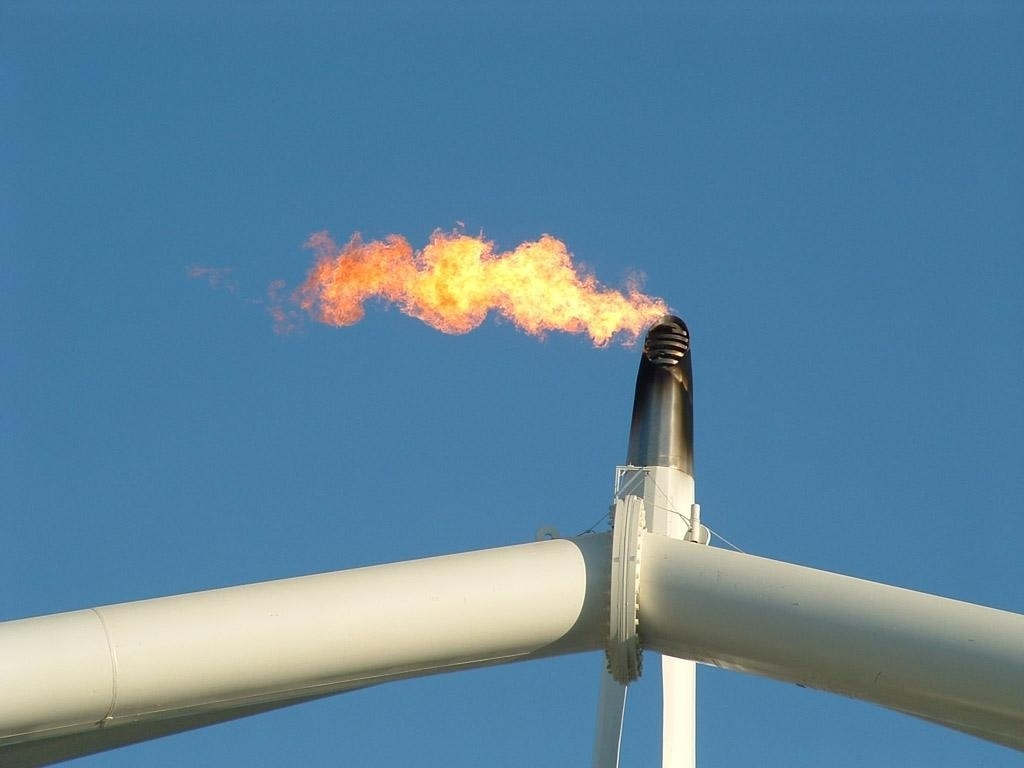fire: (288, 220, 674, 350)
